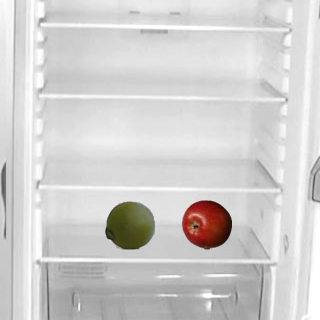Apple Braeburn: (181, 199, 231, 249)
Grape White 4: (104, 199, 154, 249)
